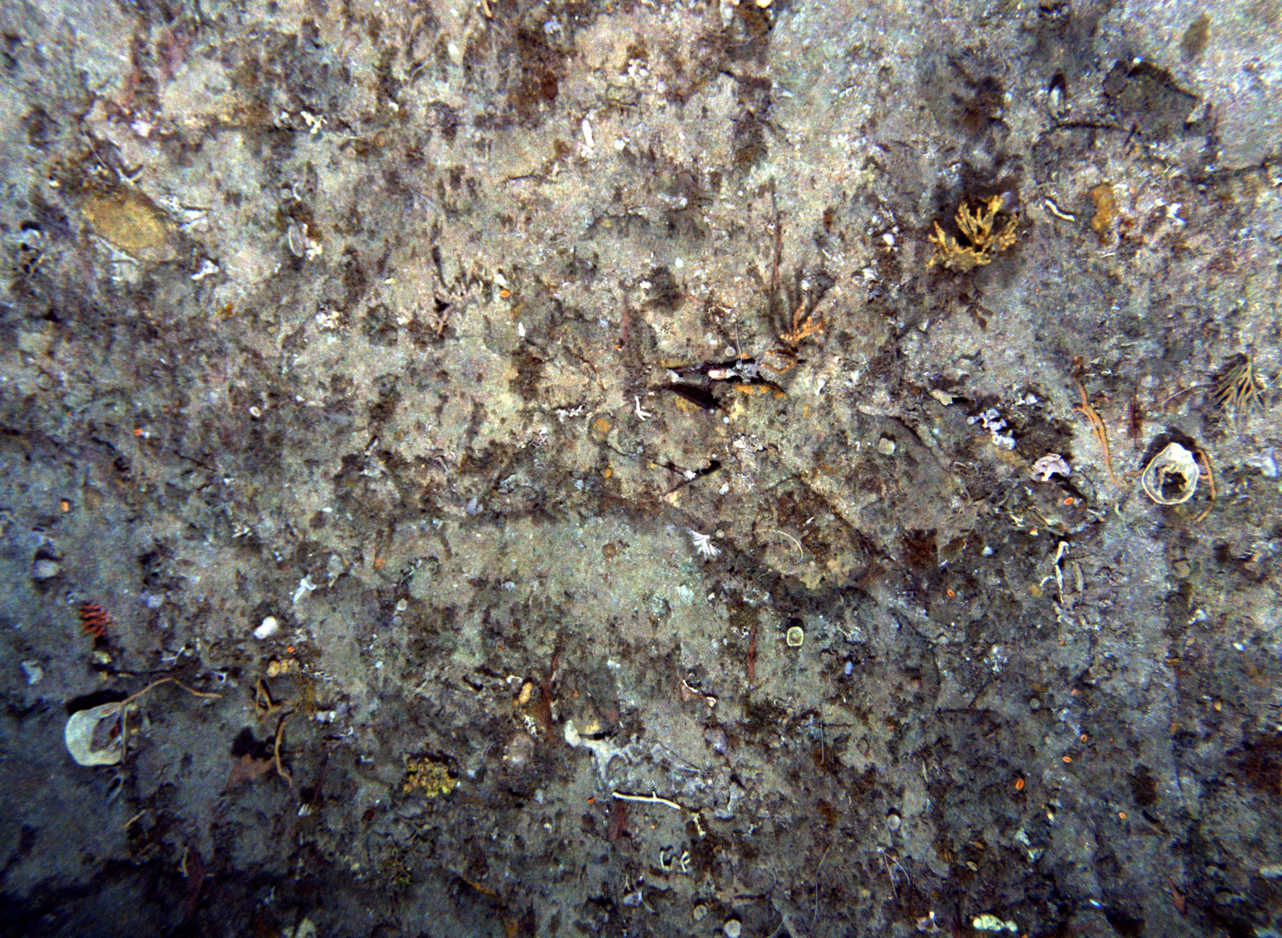Brachionichthyidae: (1160, 870, 1189, 915)
